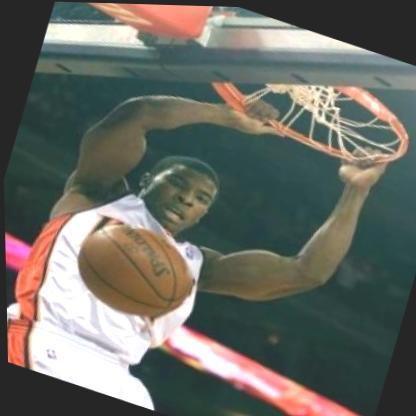basketball: (59, 204, 210, 337)
